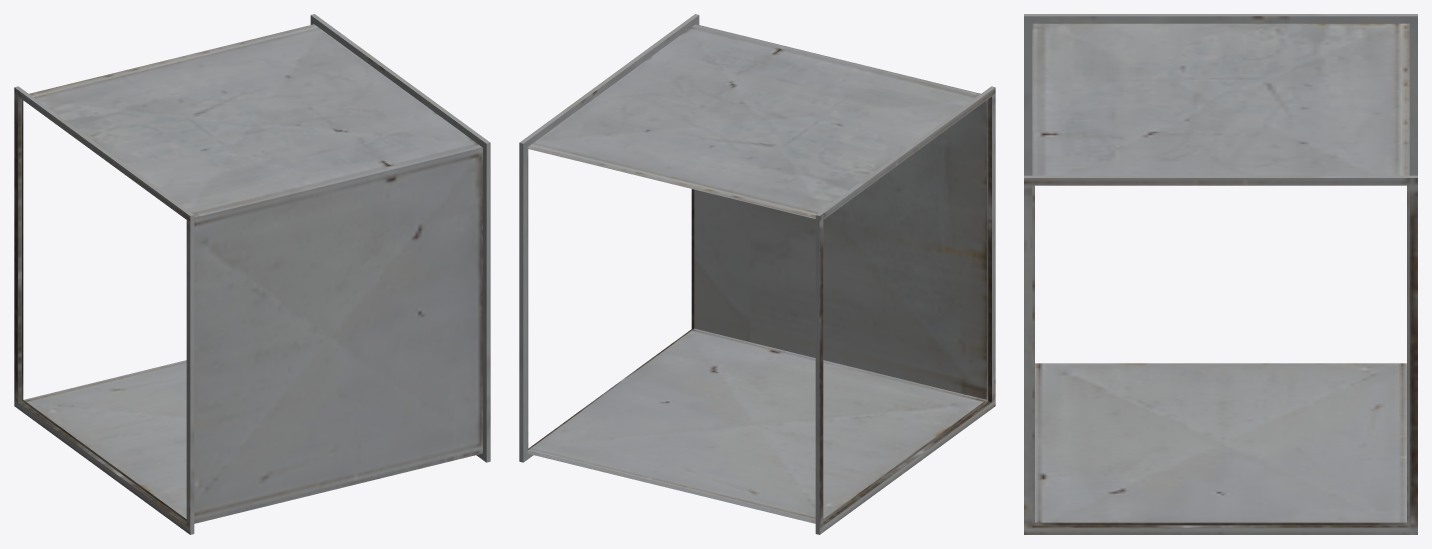
The model's file is VentTFork.fbx.
The picture shows the model from 3 angles, left to right: view 1: azimuth 30°, elevation 25°; view 2: azimuth 150°, elevation 25°; view 3: azimuth 270°, elevation 25°; orthographic projection. The views are drawn at different scales.
Visible parts, largest first — view 1: straight_double; view 2: straight_double; view 3: straight_double.
Part boxes in pixels (bbox=[...]): straight_double: bbox=[14, 14, 490, 534]; straight_double: bbox=[519, 14, 995, 534]; straight_double: bbox=[1024, 14, 1417, 534].
Size of the model in its own units: 103 by 104 by 104.
